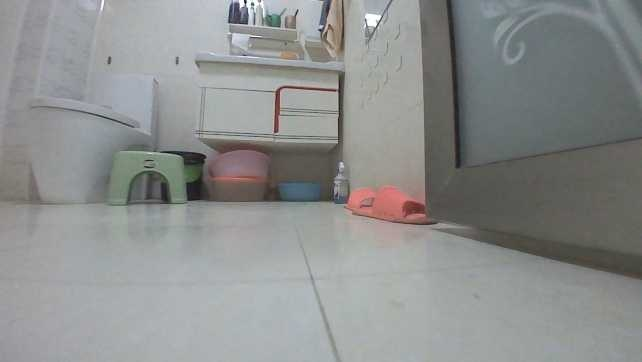plastic_stool: (105, 147, 190, 208)
slipper: (350, 185, 434, 227), (340, 185, 376, 208)
toilet: (17, 71, 161, 206)
washstand: (189, 45, 344, 154)
